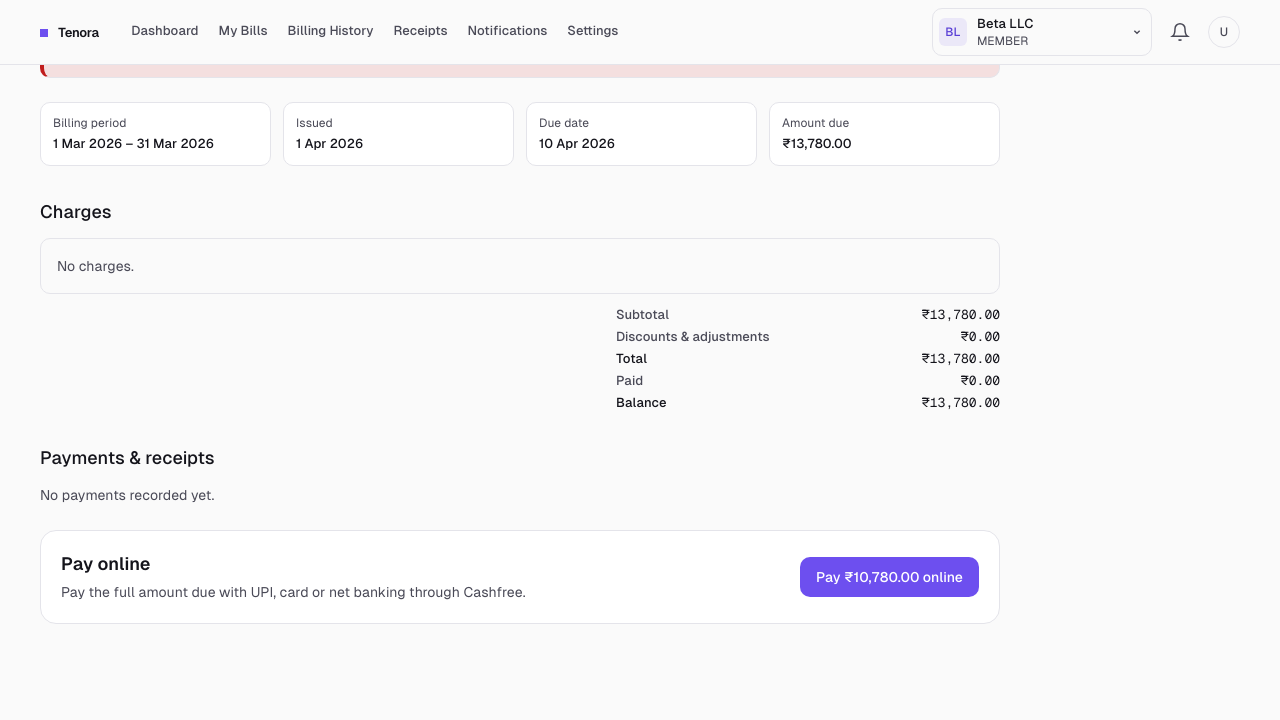
Test case: Pay online button › shows the server error and re-enables the button
(page scrolled)
Click the button "Pay ₹10,780.00 online" at (890, 577), box left=800, top=557, right=979, bottom=597
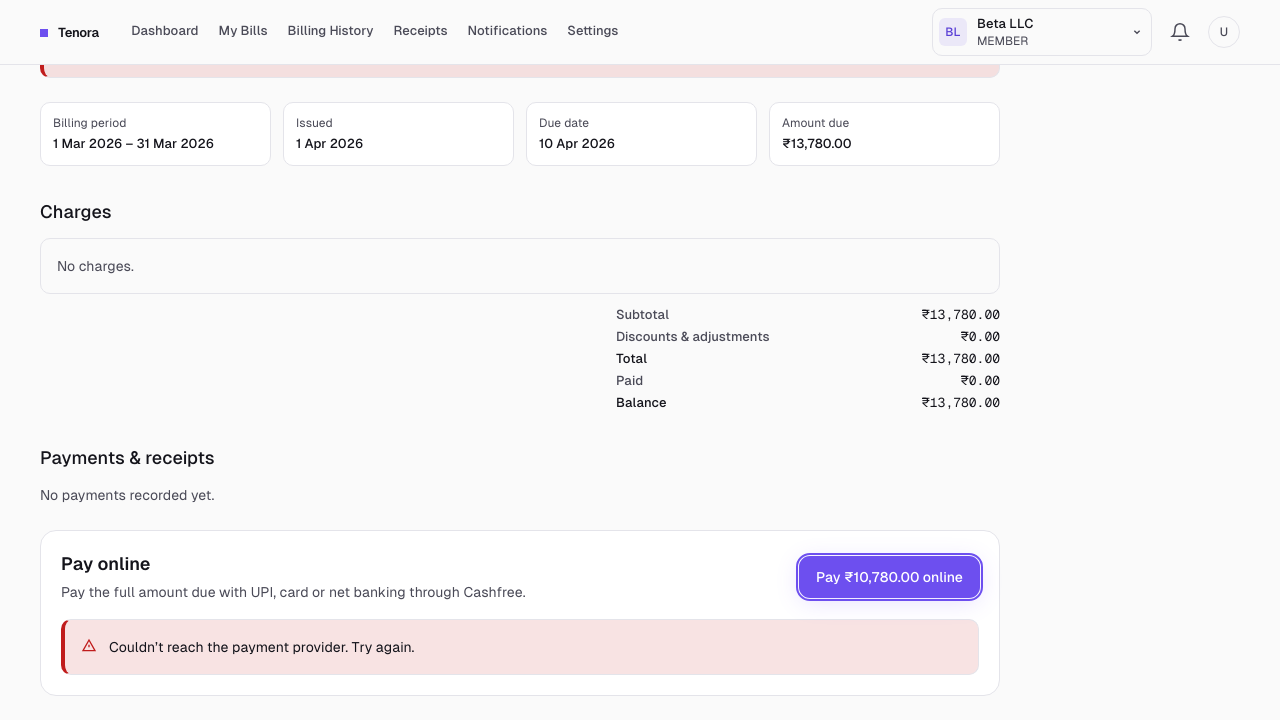
Check: the text "Couldn’t reach the payment provider. Try again." is shown, box left=109, top=639, right=414, bottom=655
